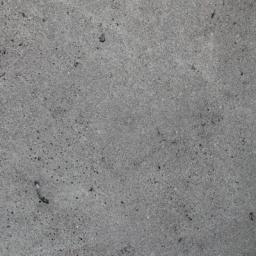FOD: (32, 180, 52, 207)
